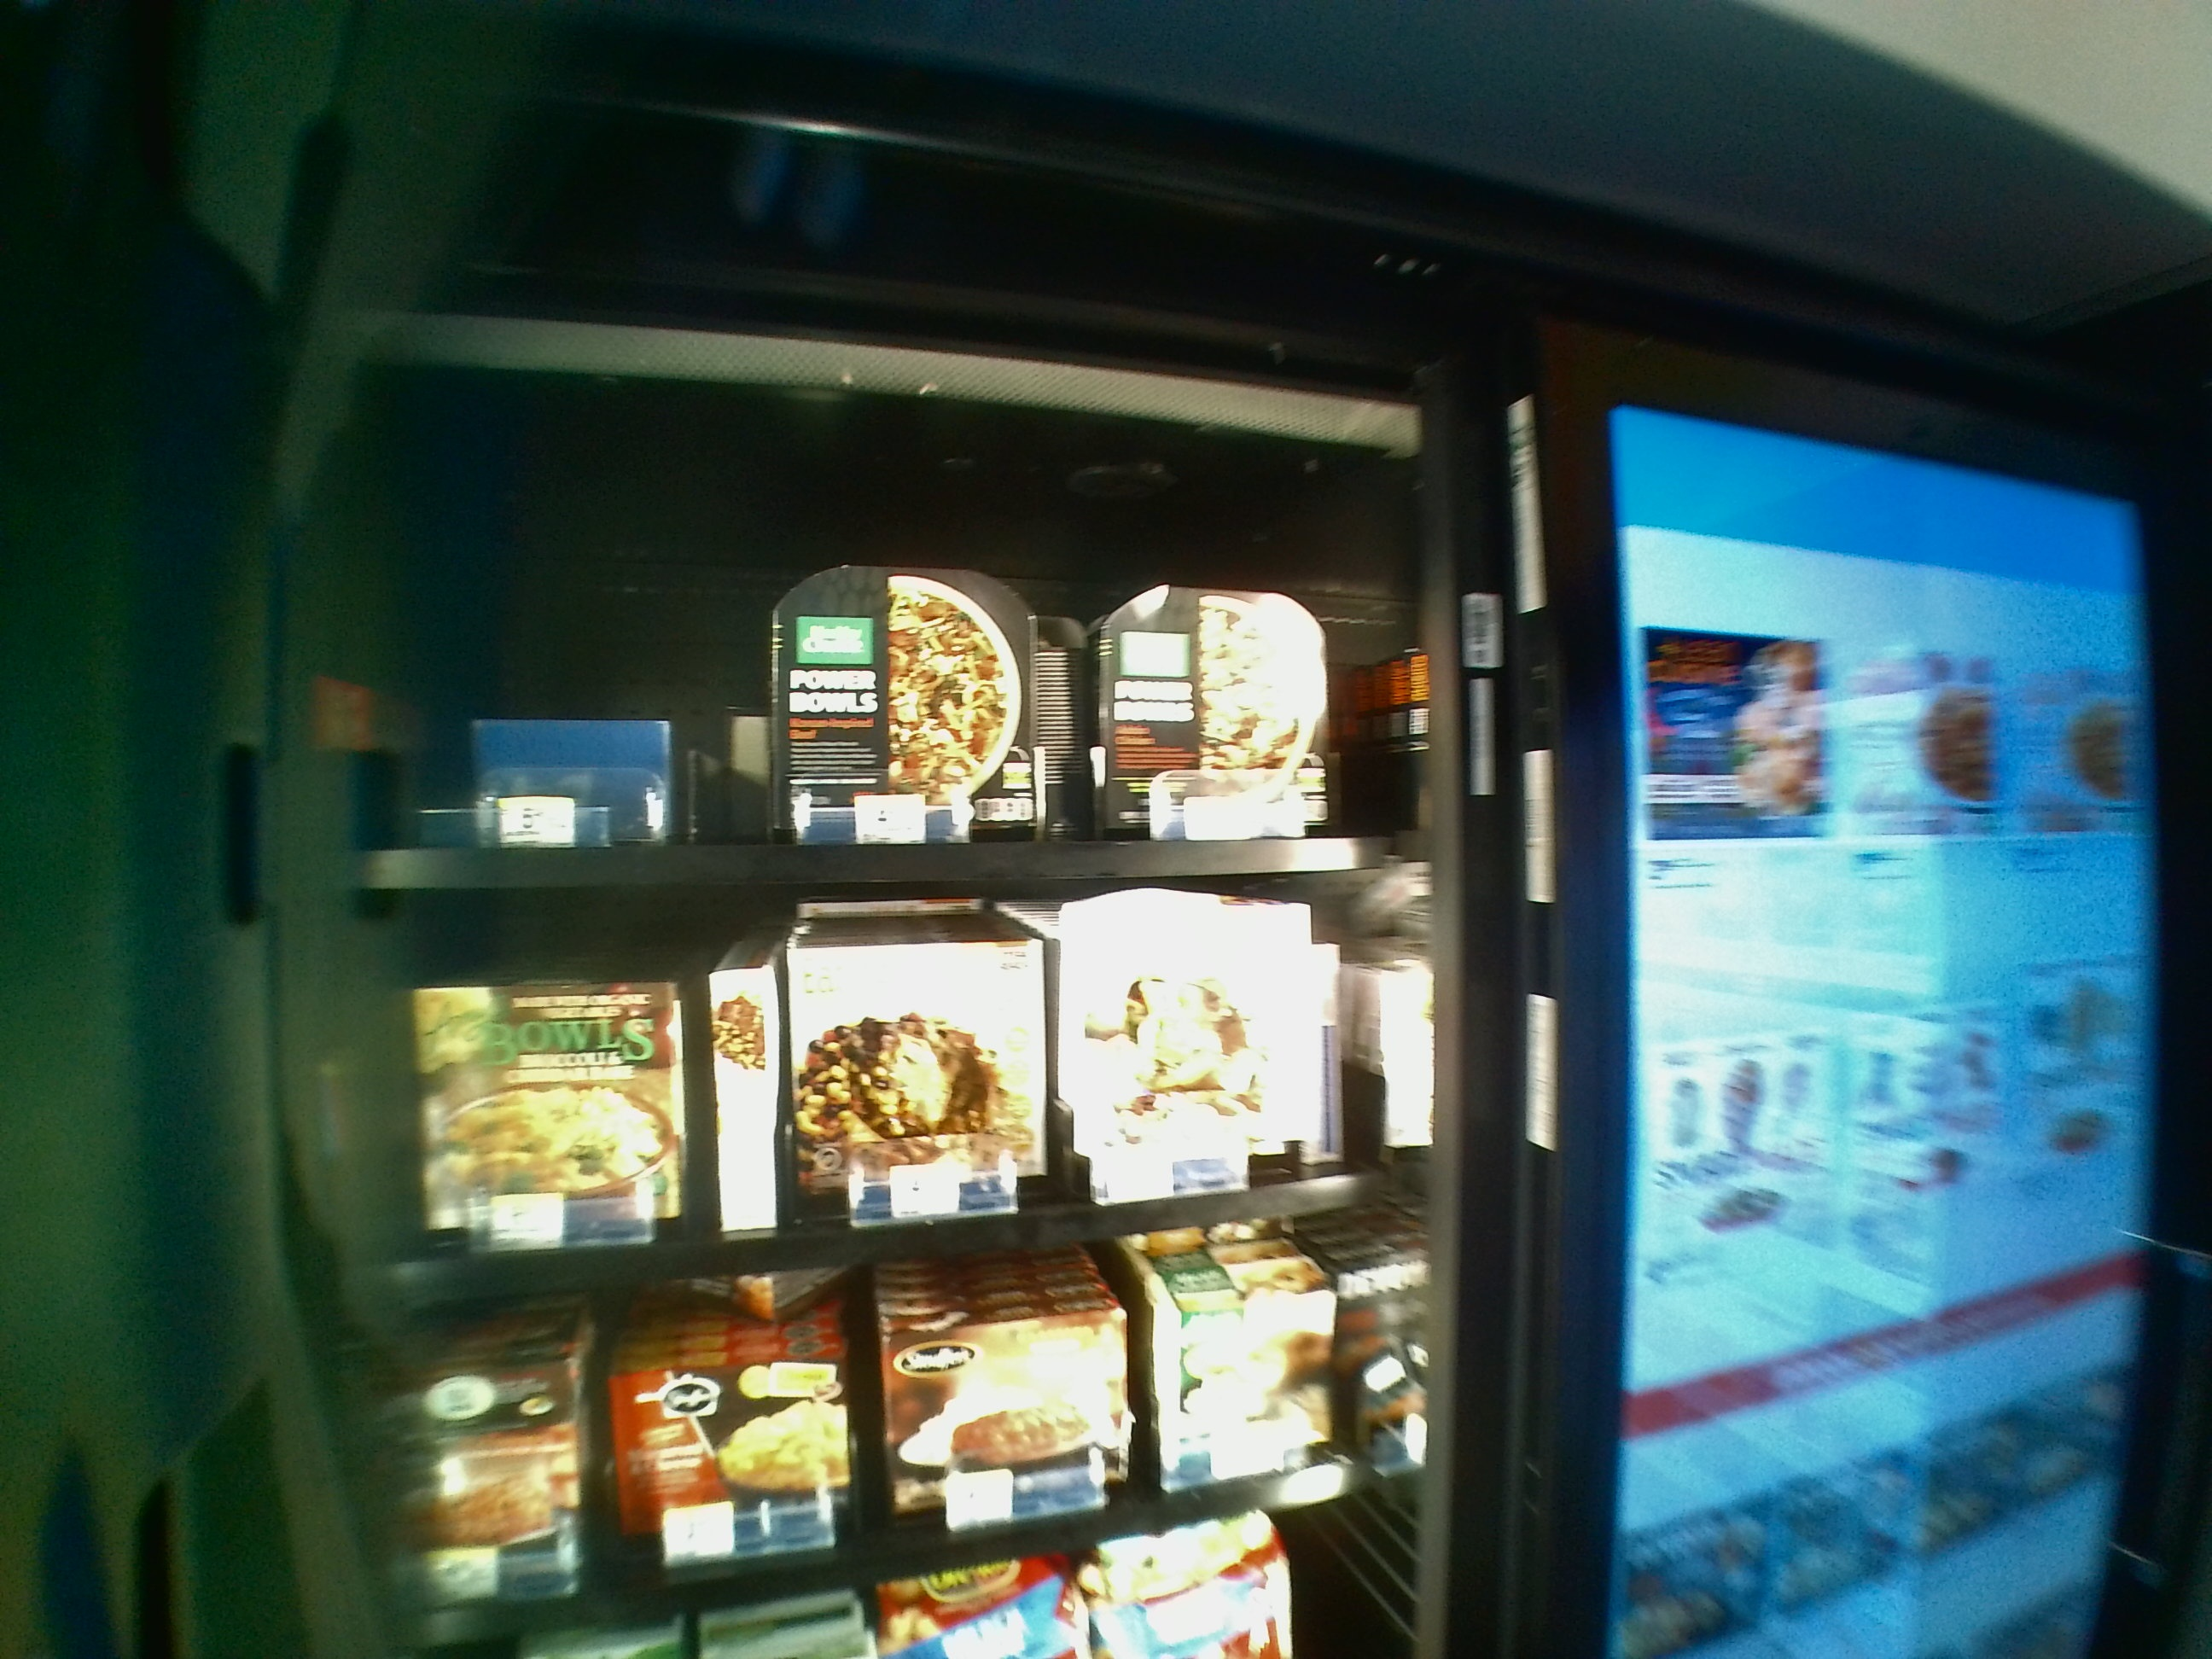shelf: (320, 453, 1406, 889), (320, 899, 1413, 1298)
